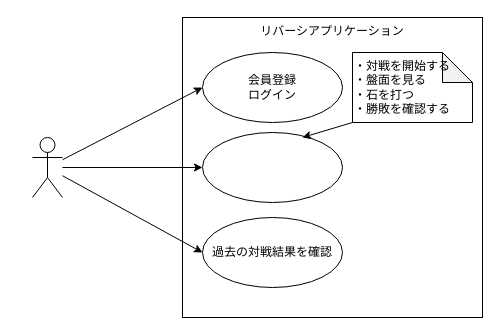
The diagram is 500 pixels wide and 335 high, and some of its shapes have lost their labels. Each missing label, with the centre of its shape:
"プレイヤー" goes at (x=47, y=167).
"対戦する" goes at (x=272, y=167).
